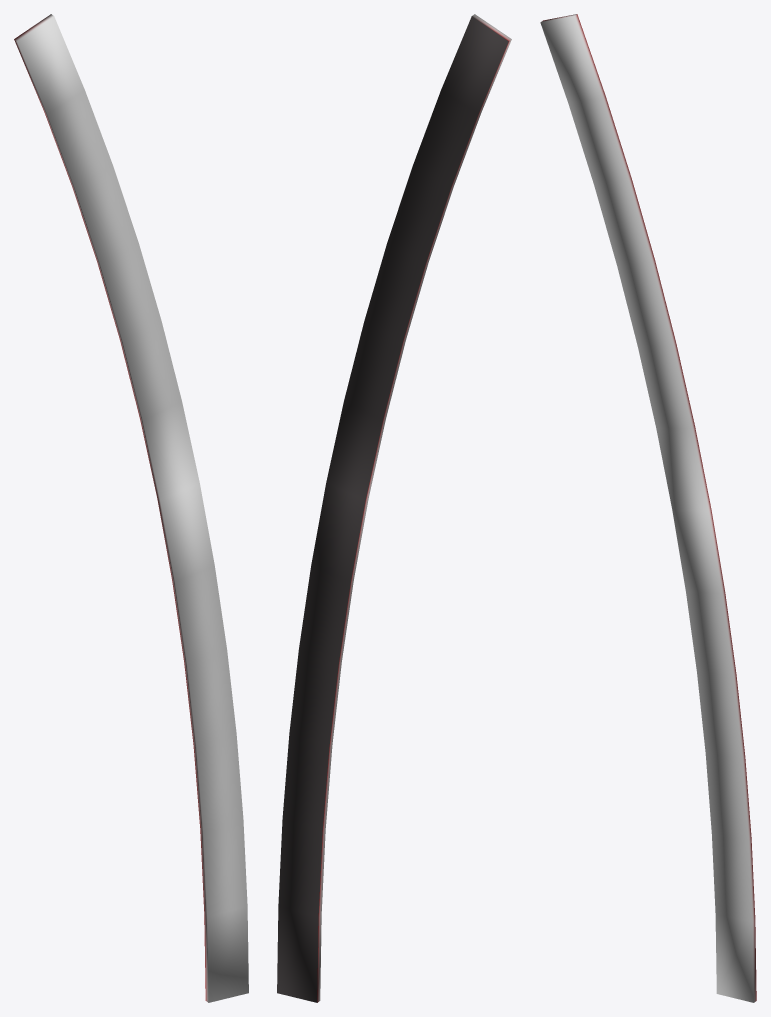
Rendered from Rails_40m_22_5d_Collider.fbx.
3 renders of one model, left to right at view 1: azimuth 30°, elevation 25°; view 2: azimuth 150°, elevation 25°; view 3: azimuth 330°, elevation 25°, orthographic. The views are drawn at different scales.
Parts seen in each view (by area): view 1: LP_Rails_40m_22_5d_Collider; view 2: LP_Rails_40m_22_5d_Collider; view 3: LP_Rails_40m_22_5d_Collider.
Part boxes in pixels (box(x1,y1,x2,y2)): LP_Rails_40m_22_5d_Collider: box(14, 14, 248, 1002); LP_Rails_40m_22_5d_Collider: box(277, 14, 511, 1002); LP_Rails_40m_22_5d_Collider: box(540, 14, 756, 1002).
Bounding box in the file's own units: 9.31 × 39.29 × 0.21.
